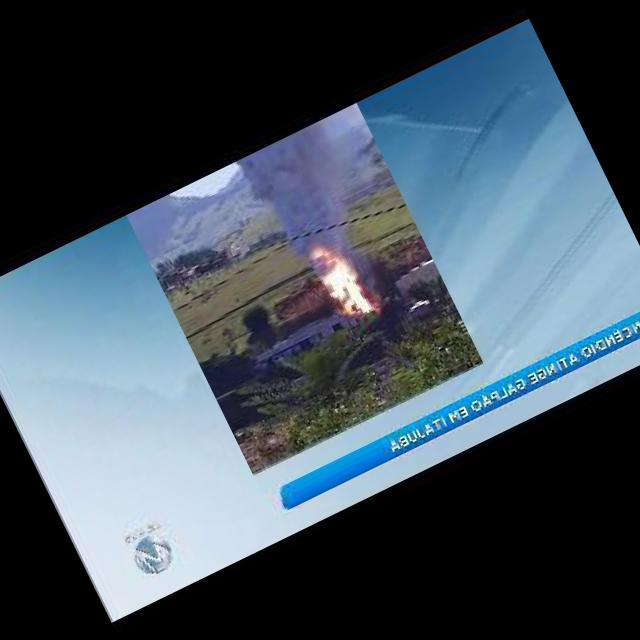fire: (300, 224, 386, 328)
smoke: (228, 125, 370, 275)
